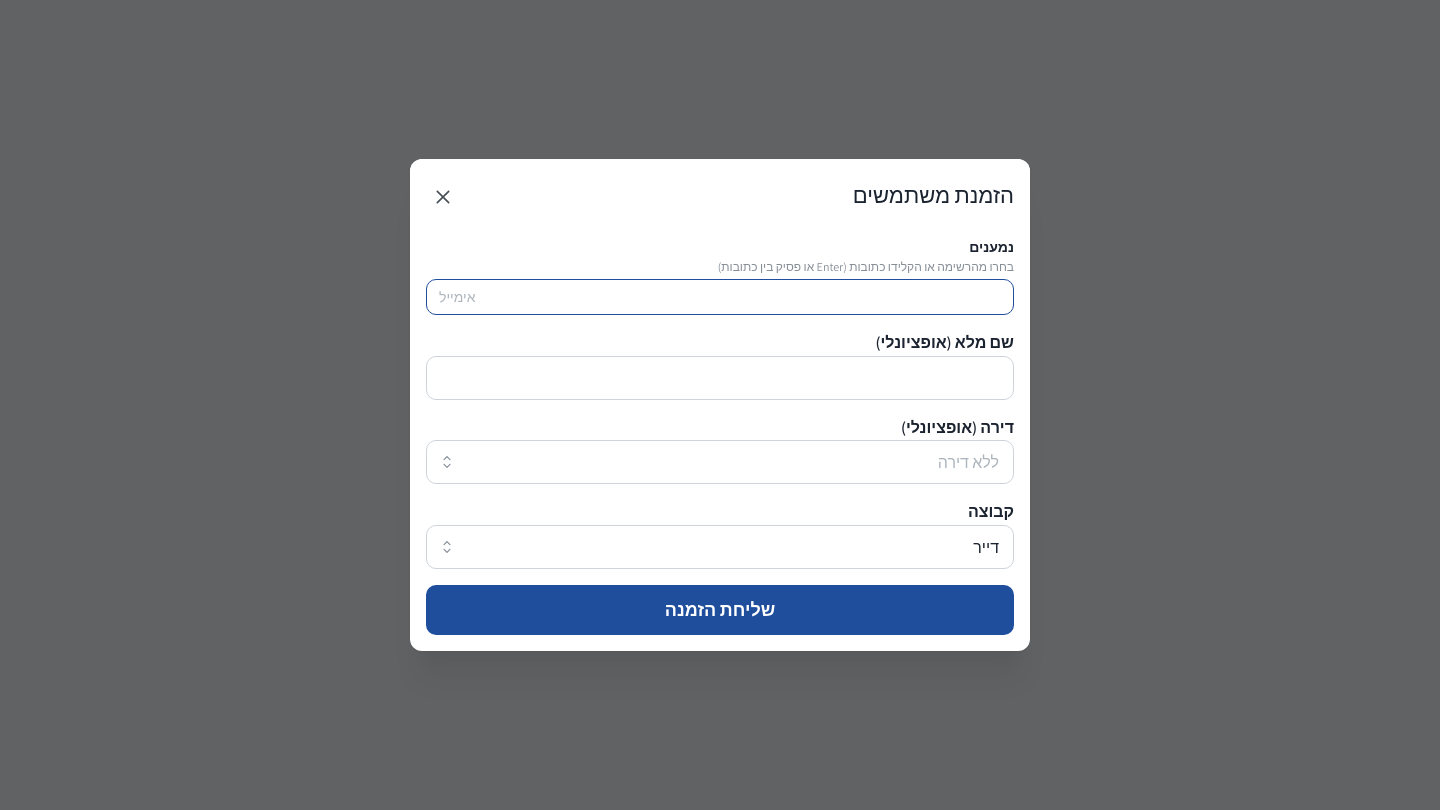
Scenario: InviteDialog › refuses an invalid address and requires a recipient
The image size is (1440, 810).
Type "not-an-email" into the dropdown labelled "נמענים" at [720, 297], box [439,285,1001,308]
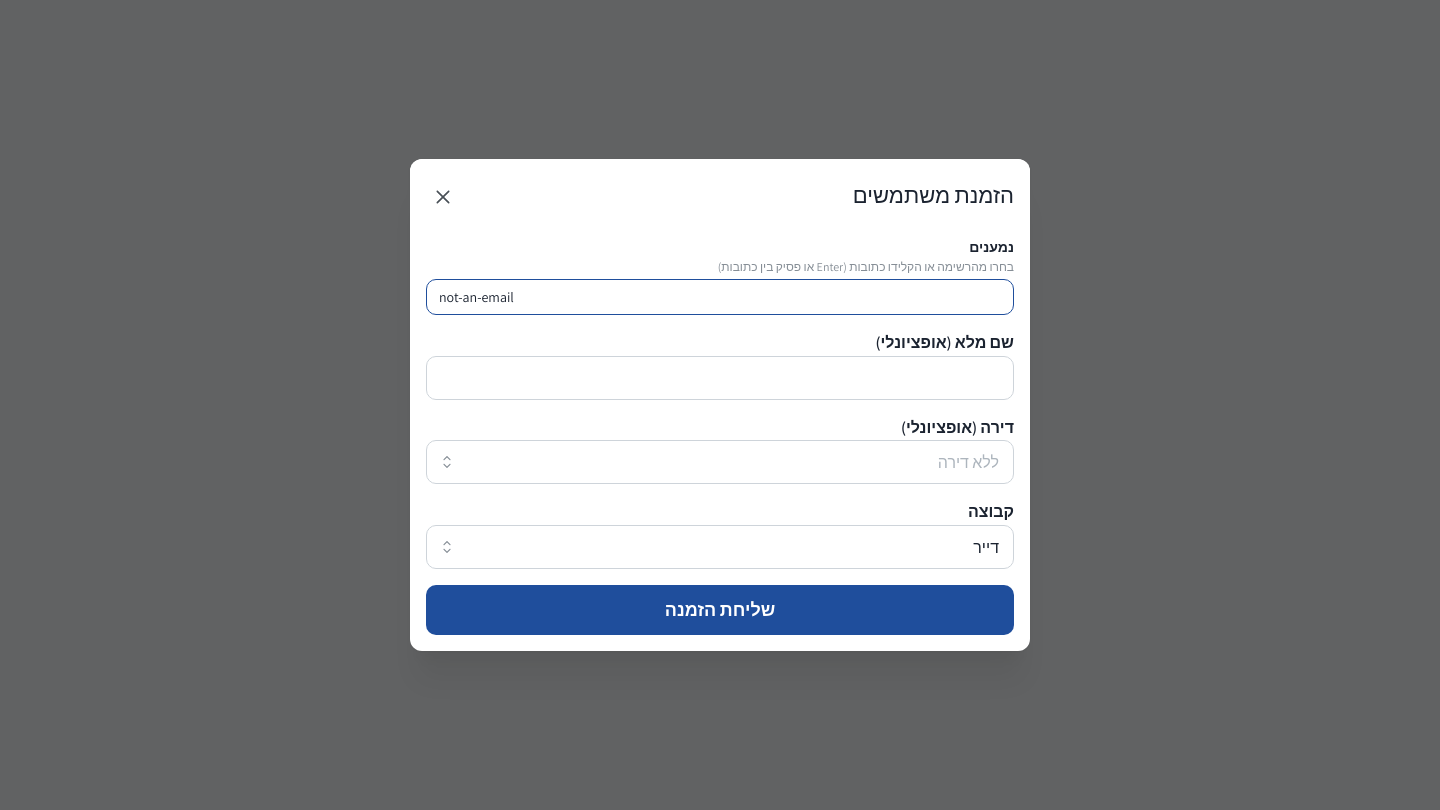
Press Enter in the dropdown labelled "נמענים", box [439,285,1001,308]
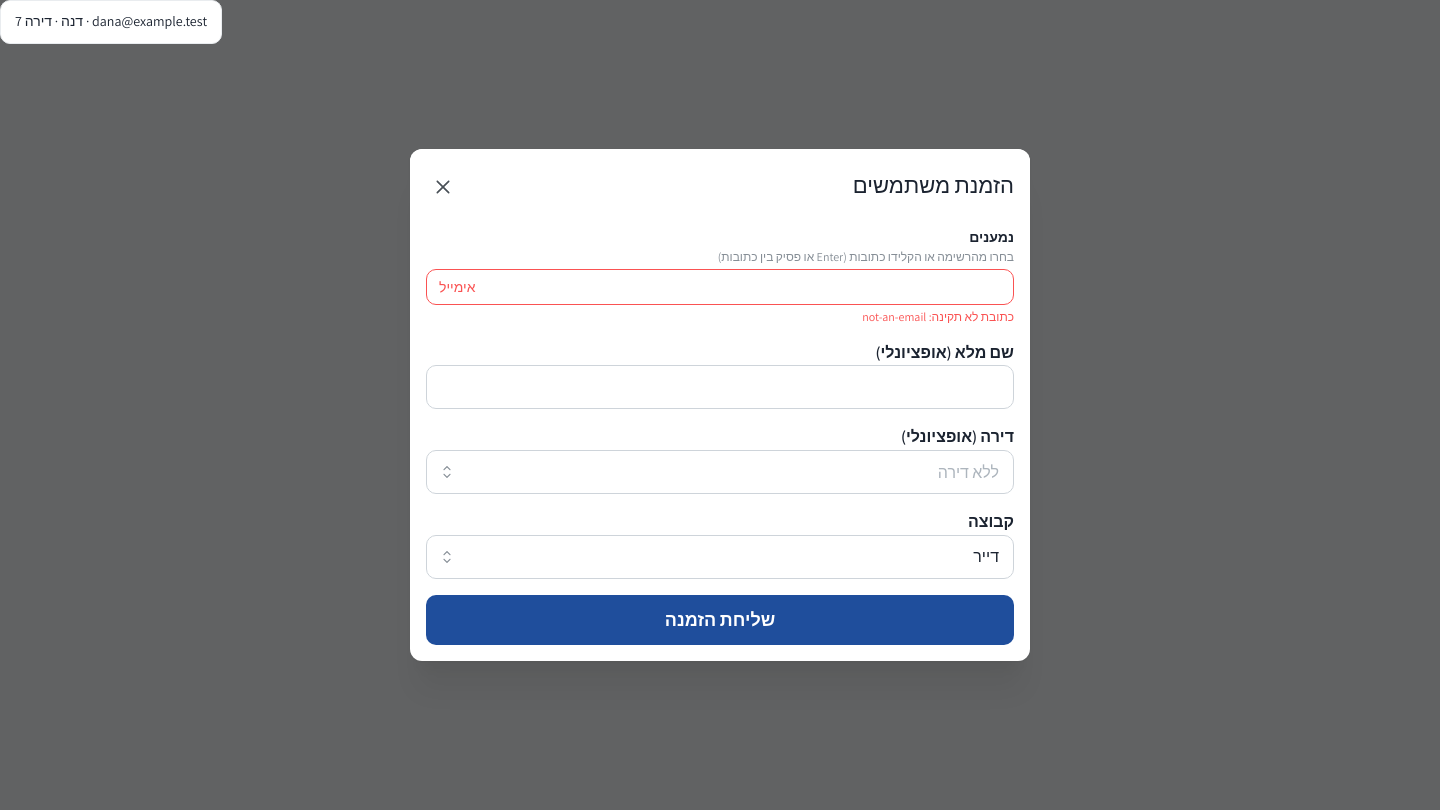
Click the button "שליחת הזמנה" at [720, 620], box [426,595,1014,645]
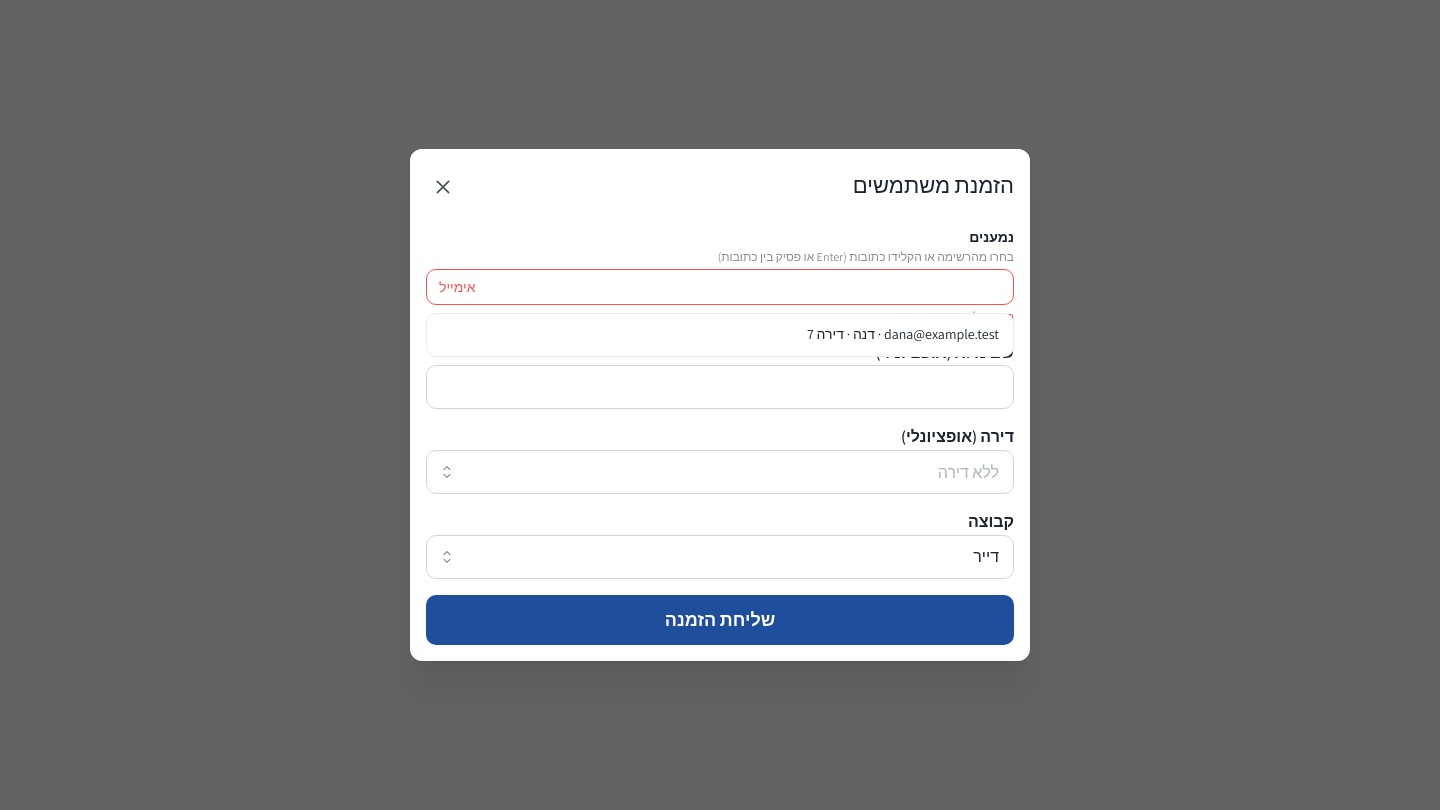
Result: the text "הוסיפו לפחות נמען אחד" is shown at [897,309,1014,324]
